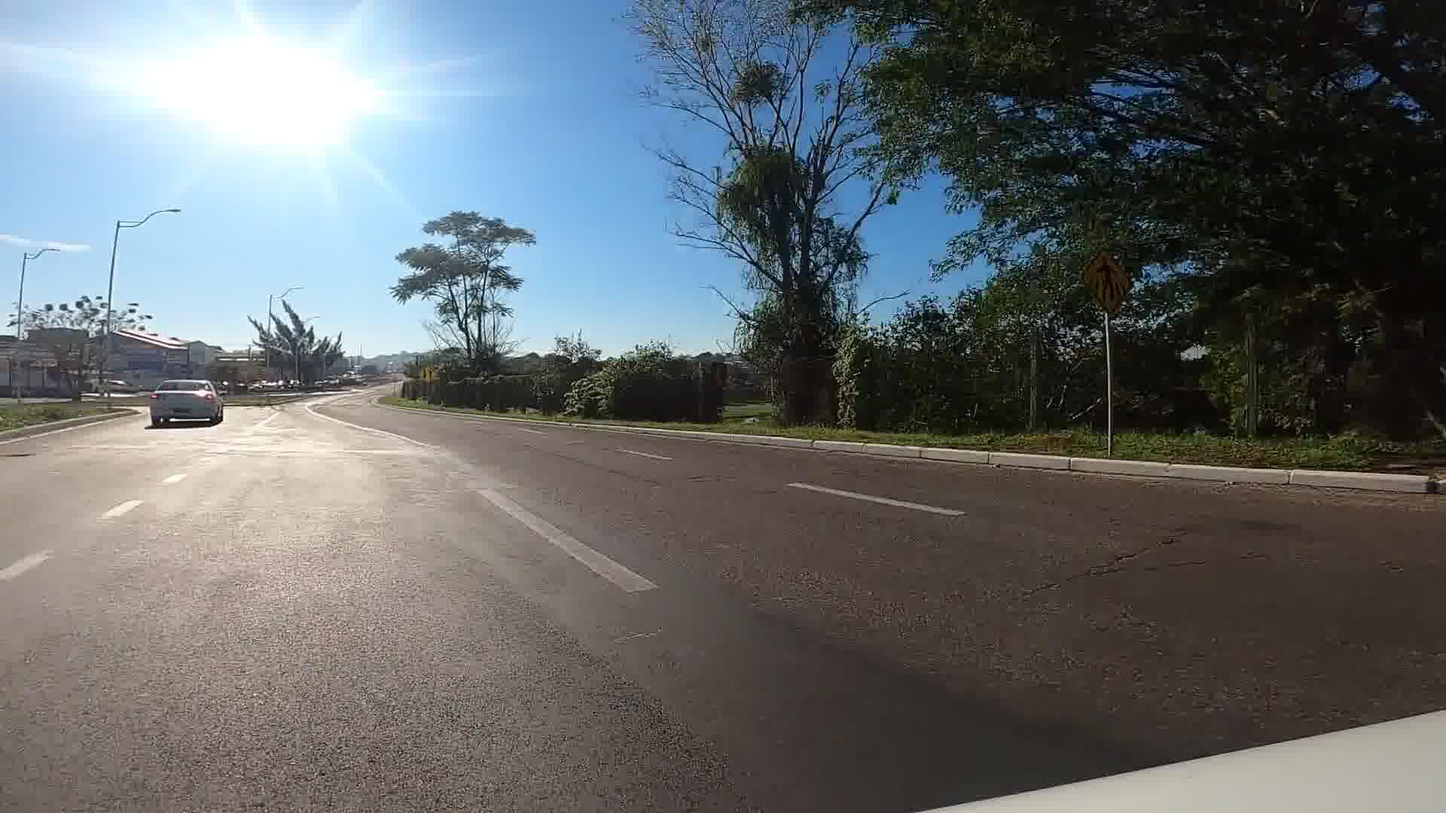A-32b: (1079, 248, 1135, 320)
